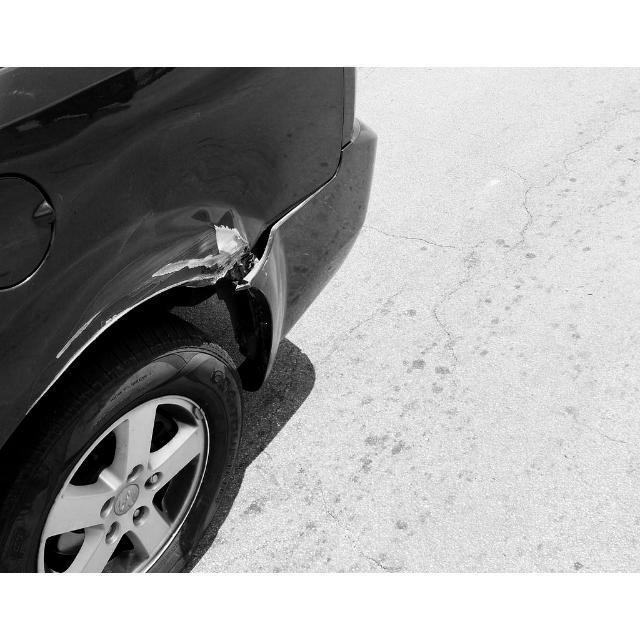quaterpanel-dent: (18, 110, 372, 366)
